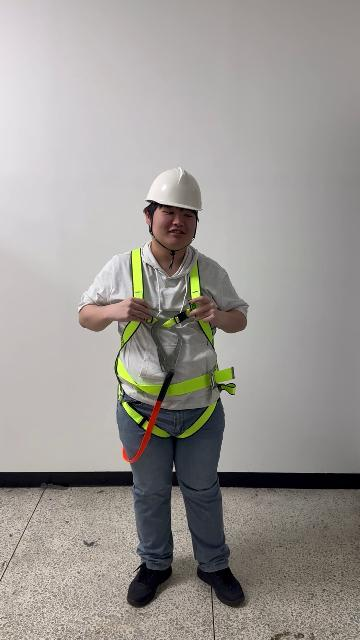helmet_worn: (144, 166, 204, 212)
shoe_not_worn: (126, 563, 172, 607), (196, 565, 245, 606)
vest_worn: (109, 248, 234, 439)
